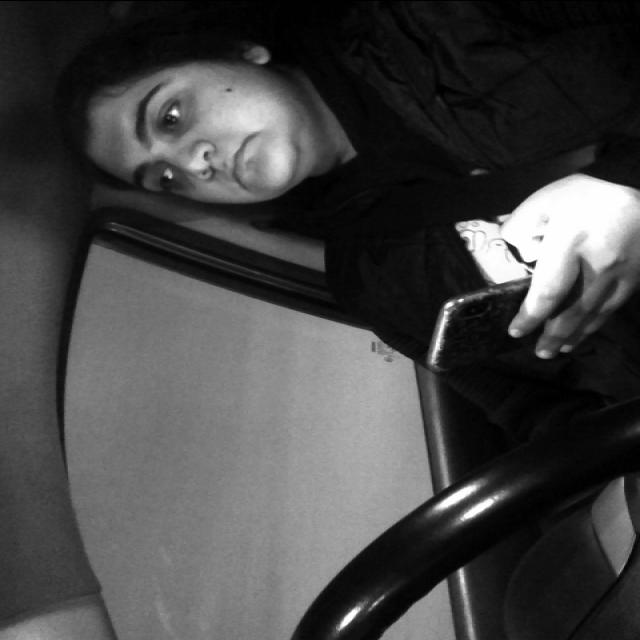mobile use: (427, 272, 640, 382)
